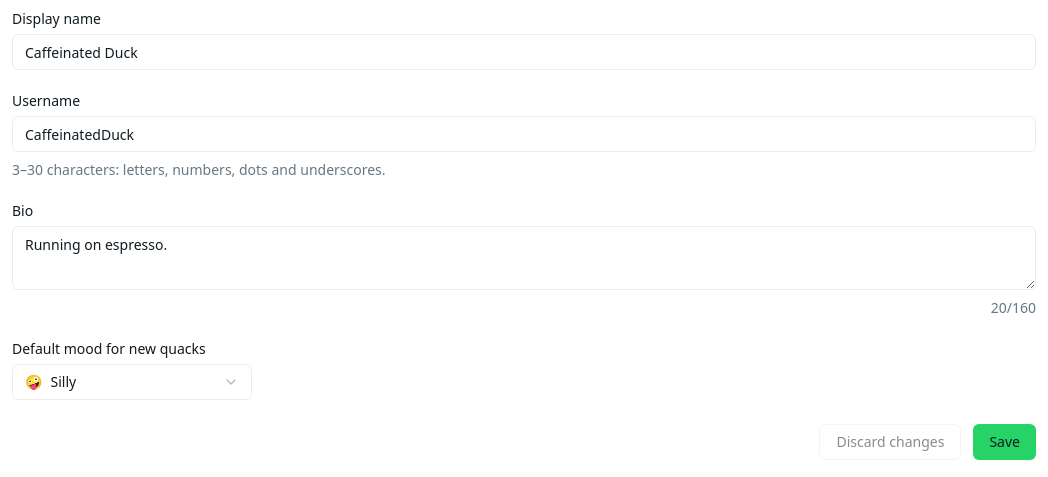
Test: ProfileForm › discards changes back to what is saved
Replace the text in the field labelled "Display name" with "Someone Else" at (524, 52), box [12,34,1036,70]
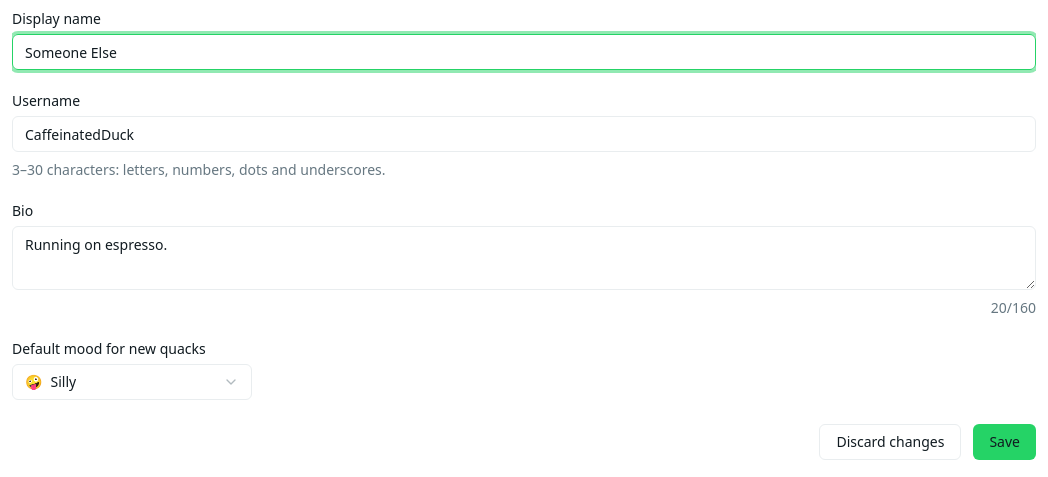
Click the button "Discard changes" at (890, 442), box [820,424,962,460]
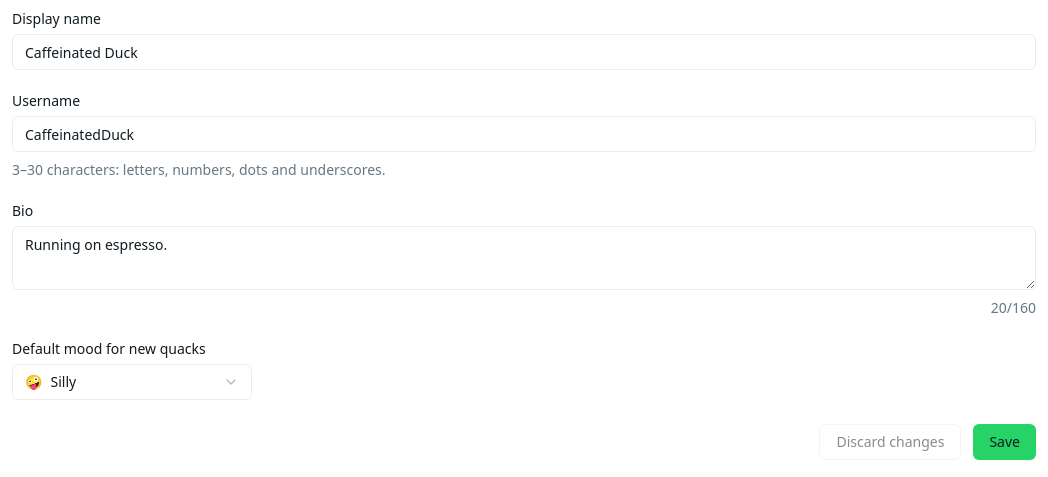
Now the field labelled "Display name" holds "Caffeinated Duck", box [12,34,1036,70]
